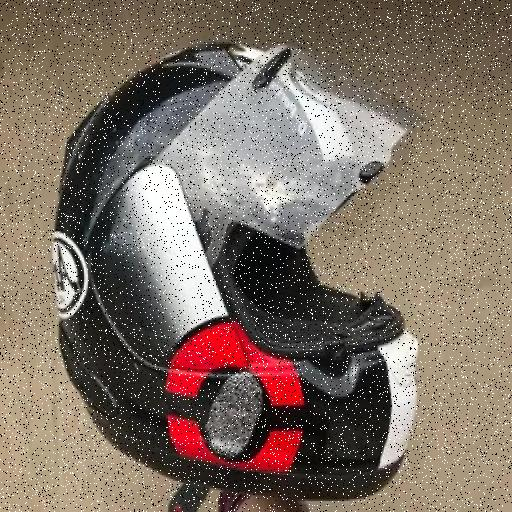Helmet: (52, 44, 417, 499)
